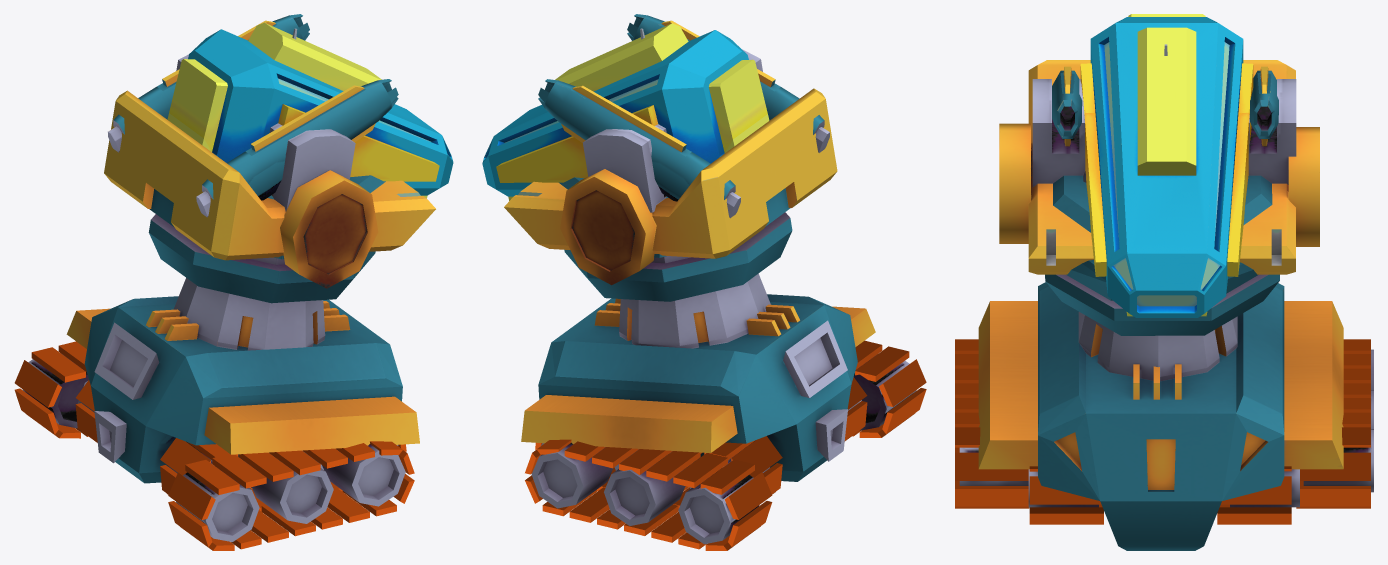
The model's file is Player_move_2_Upgrade14.obj.
3 views of the same model, side by side, from view 1: azimuth 30°, elevation 25°; view 2: azimuth 150°, elevation 25°; view 3: azimuth 270°, elevation 25° (orthographic). The views are drawn at different scales.
Visible parts, largest first — view 1: Object015, Box020, Box018, Object014, Box019, Box017, Box016; view 2: Object015, Box019, Box018, Object014, Box020, Box016, Box017; view 3: Object015, Box019, Box020, Object014, Box017, Box016, Box018, Box009.
Part boxes in pixels (box(x1,y1,x2,y2)): Object015: box(66, 22, 453, 483); Box020: box(168, 441, 414, 550); Box018: box(22, 354, 405, 541); Object014: box(108, 14, 398, 217); Box019: box(14, 341, 88, 438); Box017: box(160, 438, 406, 512); Box016: box(75, 380, 97, 442); Object015: box(482, 23, 875, 481); Box019: box(525, 439, 772, 550); Box018: box(531, 356, 916, 544); Object014: box(538, 14, 829, 218); Box020: box(852, 340, 926, 437); Box016: box(535, 436, 782, 508); Box017: box(844, 377, 867, 441); Object015: box(978, 14, 1343, 550); Box019: box(1296, 339, 1370, 508); Box020: box(955, 339, 1029, 508); Object014: box(1052, 66, 1278, 146); Box017: box(1029, 466, 1103, 524); Box016: box(1217, 466, 1291, 524); Box018: box(959, 349, 1373, 492); Box009: box(1028, 469, 1299, 507).
Bounding box in the file's own units: 70.38 × 88.9 × 68.55.
Materials: 6 (4 with a texture image).
